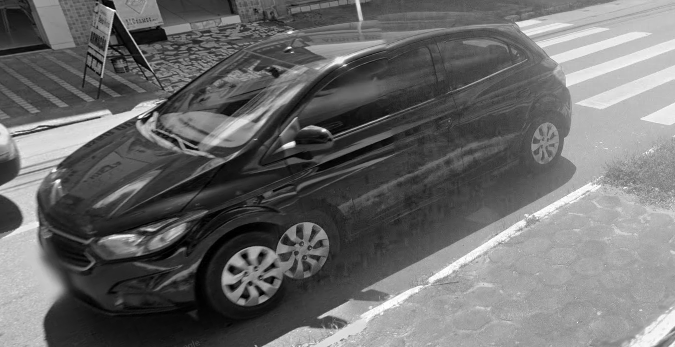car: (39, 14, 575, 320)
